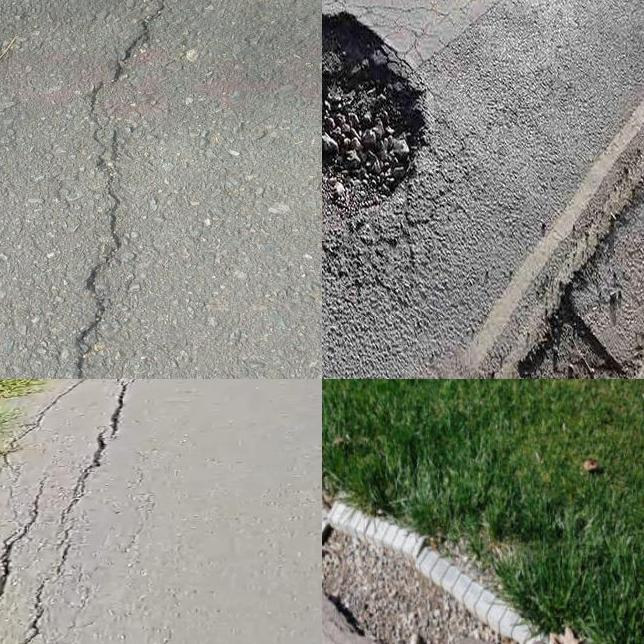Lubang: (322, 10, 421, 216)
Memanjang: (64, 0, 190, 379), (0, 383, 158, 644)
Pinggir: (322, 417, 644, 644)
